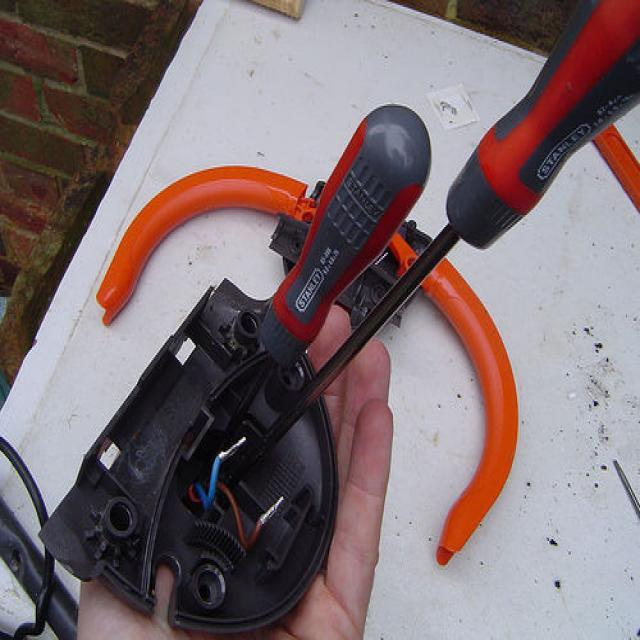screwdriver: (229, 0, 640, 475), (210, 112, 422, 466)
